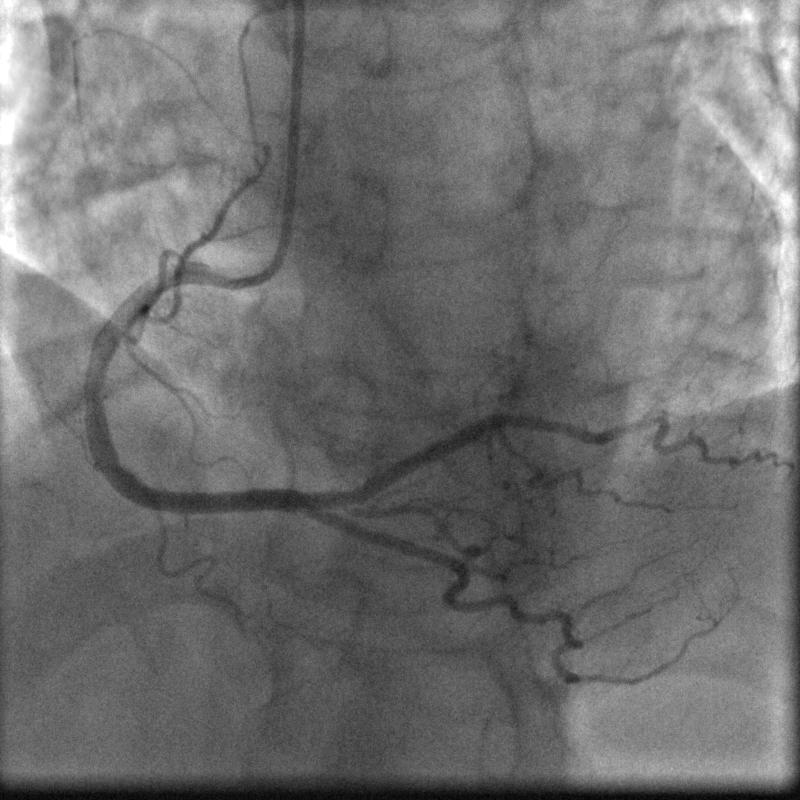Stenosis: (79, 367, 111, 423)
